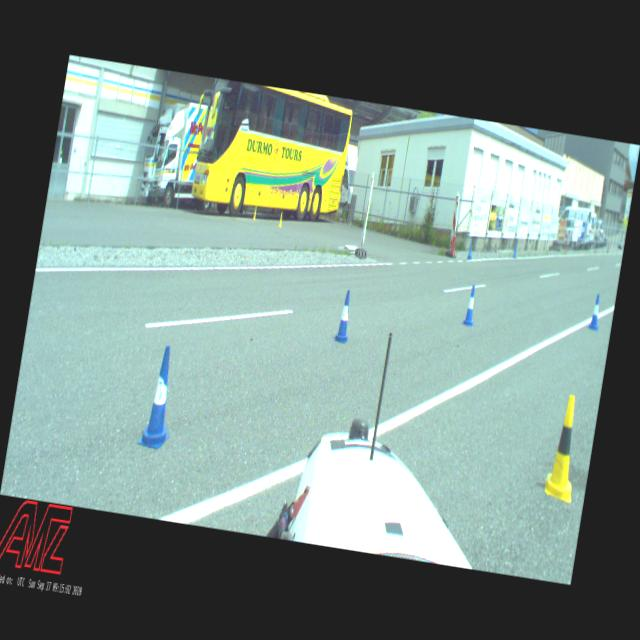blue_cone: (137, 344, 183, 450), (334, 289, 356, 344), (462, 285, 480, 327), (588, 294, 602, 330), (467, 239, 474, 260), (512, 242, 518, 258)
yellow_cone: (542, 394, 588, 503), (252, 206, 258, 220), (279, 211, 284, 227)
